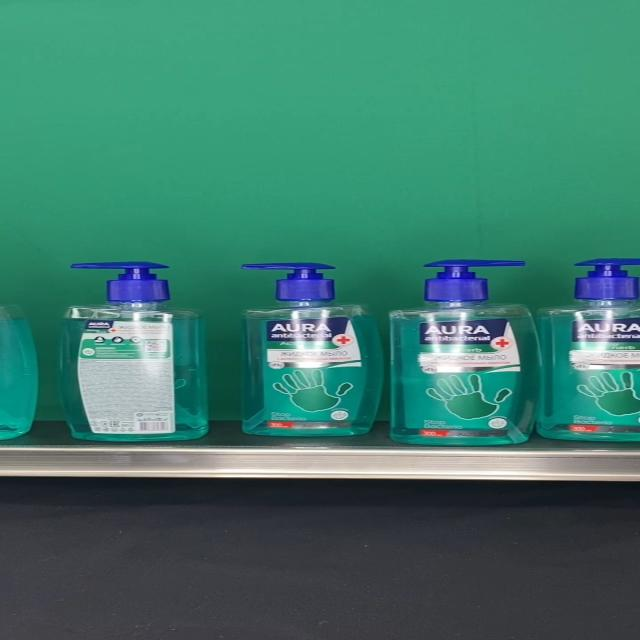Bottle: (390, 260, 542, 445), (57, 261, 209, 440), (242, 264, 384, 436), (539, 257, 640, 442)
Cap: (422, 260, 524, 302), (71, 261, 171, 303), (242, 263, 337, 301), (573, 257, 640, 301)
